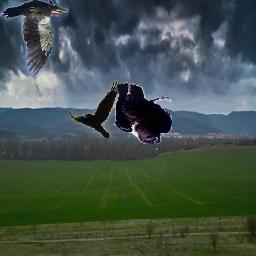Crow: (114, 82, 173, 145), (70, 80, 119, 138)
Woodpecker: (1, 1, 70, 76)
